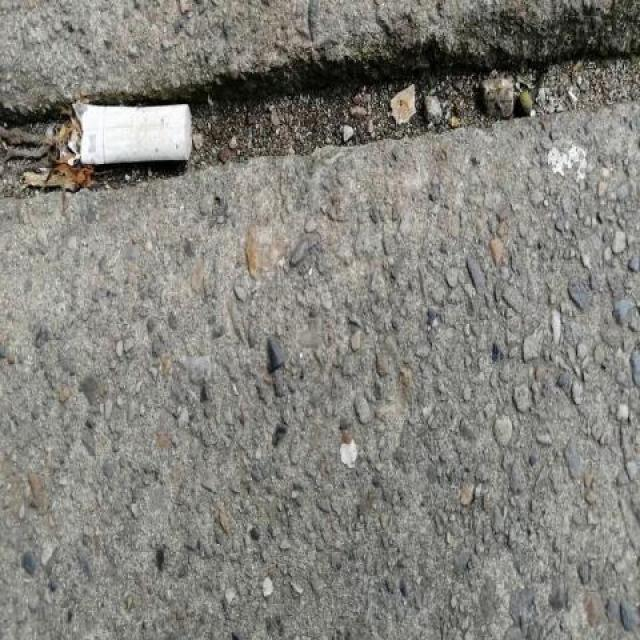non-organic waste: (72, 94, 197, 171)
